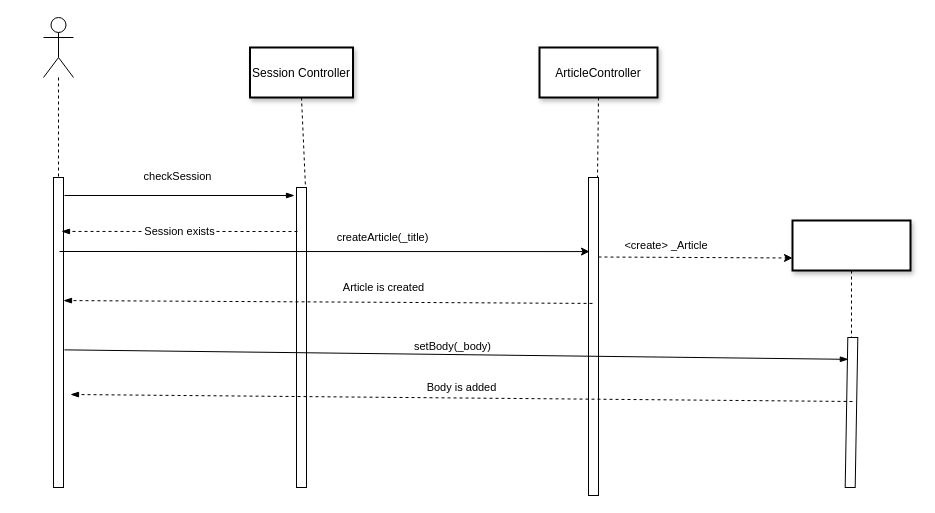
Image size: 935x513. Some labels were removed from this diagram. Here are the shapes that lost their labels. From the top down, the centre of each, then its label:
the point at 58,47: Logged In User
the point at 852,246: Article
